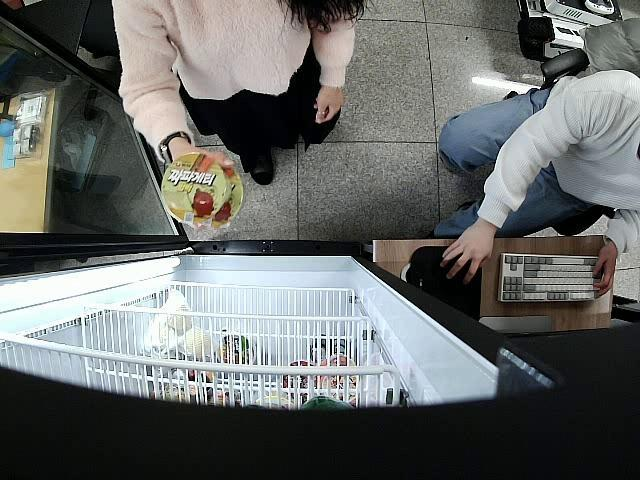04_chapagetti_S: (161, 154, 242, 224)
